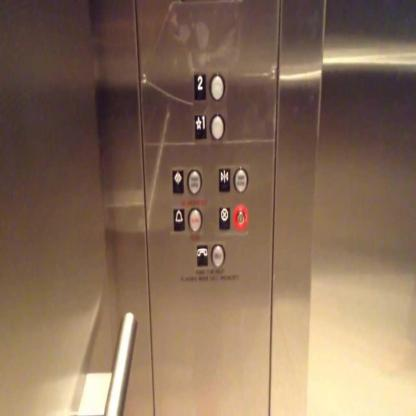2: (193, 71, 206, 99)
alarm: (172, 206, 186, 232)
call: (196, 243, 208, 266)
close: (218, 166, 230, 192)
empty: (209, 112, 225, 140), (210, 73, 224, 100)
keyhole: (233, 204, 248, 231)
open: (172, 169, 184, 193)
s1: (193, 112, 207, 140)
stop: (218, 204, 231, 230)
text_blur: (186, 166, 202, 195), (232, 166, 249, 193), (210, 243, 226, 267), (188, 206, 202, 233)
